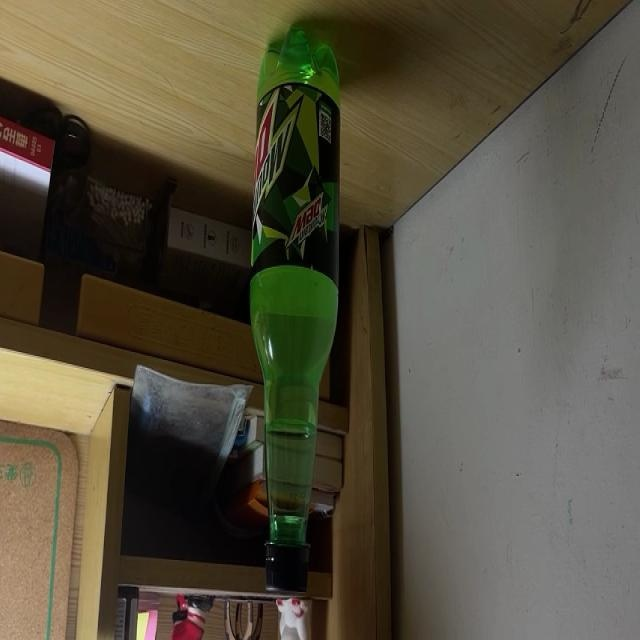Mountain-Dew: (250, 24, 341, 595)
